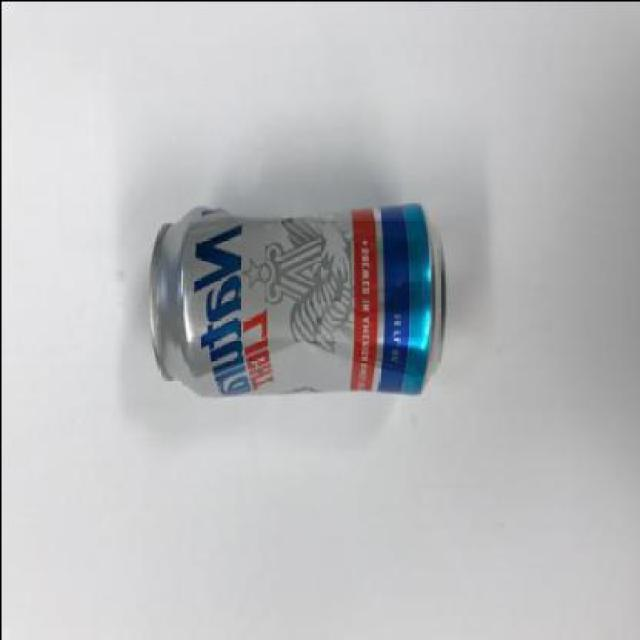METAL: (145, 206, 446, 400)
